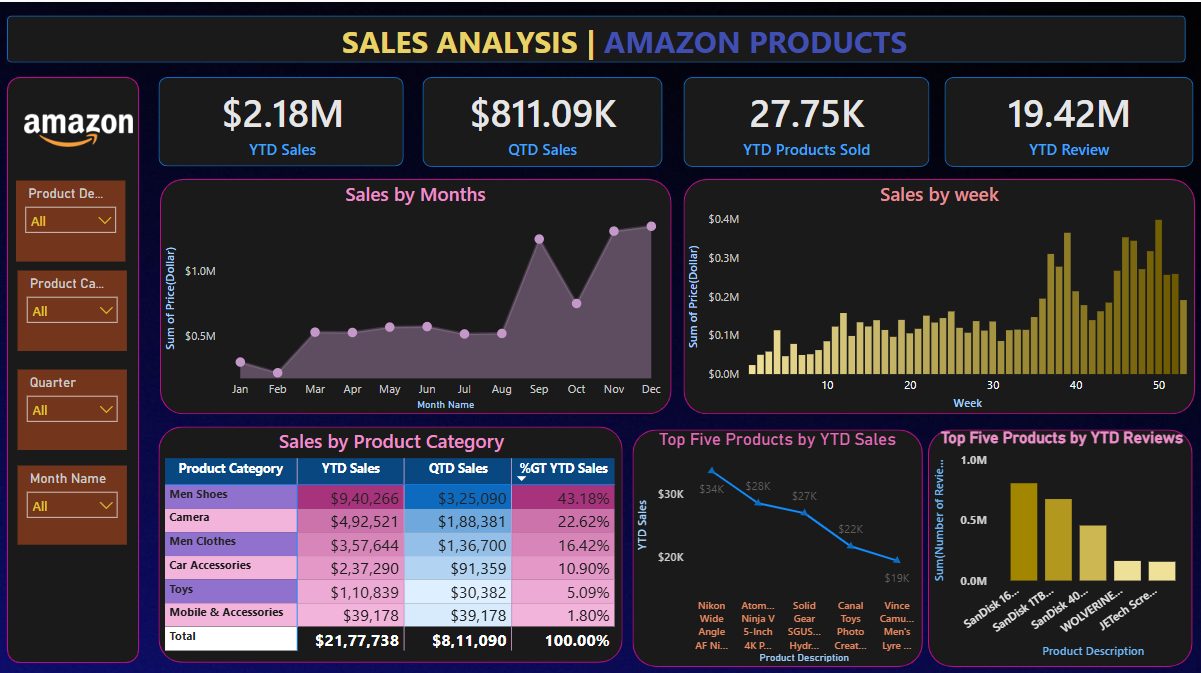

Layout of this report page (visuals, bound fields, positions):
{"tool":"powerbi","page":{"name":"Page 1","canvas":[1280,720],"ordinal":0},"visuals":[{"type":"shape","box":[170.3,79.5,260,94.9],"z":0,"group":"g1"},{"type":"shape","box":[9.6,14.3,1249.9,50],"z":0},{"type":"card","fields":{"Values":["Amazon_Data.YTD Sales"]},"box":[171.9,79.5,259.3,95.4],"z":1000,"group":"g1"},{"type":"textbox","box":[359.5,14.3,688.7,57.2],"z":1000},{"type":"shape","box":[450.2,79.5,254.5,95.4],"z":2000,"group":"g1"},{"type":"shape","box":[9.6,79.5,140,621.4],"z":2000},{"type":"shape","box":[726.4,79.5,260.8,95.4],"z":3000,"group":"g1"},{"type":"group","id":"g1","title":"Group 1","box":[170.3,79.5,1097.4,95.4],"z":3000},{"type":"shape","box":[1003.7,79.5,264,95.4],"z":4000,"group":"g1"},{"type":"shape","box":[171.9,187.6,542.4,249.5],"z":4000},{"type":"card","fields":{"Values":["Amazon_Data.QTD Sales"]},"box":[450.2,79.5,254.5,95.4],"z":5000,"group":"g1"},{"type":"areaChart","title":"Sales by Months","fields":{"Category":["Date table.Month Name"],"Y":["Sum(Amazon_Data.Price(Dollar))"]},"box":[172.4,189.1,541.5,247.5],"z":5000},{"type":"card","fields":{"Values":["Amazon_Data.YTD Products Sold"]},"box":[727,79.5,260.8,95.4],"z":6000,"group":"g1"},{"type":"shape","box":[726.9,187.6,542.4,249.5],"z":6000},{"type":"card","fields":{"Values":["Amazon_Data.YTD Review"]},"box":[1005.3,79.5,260.8,95.4],"z":7000,"group":"g1"},{"type":"columnChart","title":"Sales by week","fields":{"Category":["Date table.Week"],"Y":["Sum(Amazon_Data.Price(Dollar))"]},"box":[726.9,189.1,542.4,247.9],"z":7000},{"type":"shape","box":[170.8,450.4,492.3,250.6],"z":8000},{"type":"pivotTable","title":"Sales by Product Category","fields":{"Rows":["Amazon_Data.Product Category"],"Values":["Amazon_Data.YTD Sales1","Amazon_Data.QTD Sales","Amazon_Data.YTD Sales"]},"box":[172.4,452,490.7,250.6],"z":9000},{"type":"shape","box":[672.8,452.9,307.8,251.7],"z":10000},{"type":"shape","box":[985.7,452.9,280.5,251.7],"z":11000},{"type":"lineChart","title":"Top Five Products by YTD Sales","fields":{"Category":["Amazon_Data.Product Description"],"Y":["Amazon_Data.YTD Sales"]},"box":[672.8,452.9,307.8,251.7],"z":12000},{"type":"clusteredColumnChart","title":"Top Five Products by YTD Reviews","fields":{"Y":["Sum(Amazon_Data.Number of  reviews)"],"Category":["Amazon_Data.Product Description"]},"box":[987.9,452.4,281.1,248.4],"z":13000},{"type":"slicer","fields":{"Values":["Amazon_Data.Product Category"]},"box":[20.4,284.9,116.2,85.1],"z":14000},{"type":"slicer","fields":{"Values":["Date table.Quarter"]},"box":[20.4,390.2,116.2,85.1],"z":15000},{"type":"image","box":[9.5,79.7,140.5,109.4],"z":16000},{"type":"slicer","fields":{"Values":["Date table.Month Name"]},"box":[20.8,491.1,116.1,84.2],"z":17000},{"type":"slicer","fields":{"Values":["Amazon_Data.Product Description"]},"box":[19.1,189.3,116.1,85.9],"z":17001}]}

Visuals, with their boxes in screenshot pixels (x1, y1, x2, y2), scaled from the page's 1280x720 canvas onto the 1201x673 screenshot:
shape: pyautogui.locateOnScreen(160, 74, 404, 163)
shape: pyautogui.locateOnScreen(9, 13, 1182, 60)
card - Amazon_Data.YTD Sales: pyautogui.locateOnScreen(161, 74, 405, 163)
textbox: pyautogui.locateOnScreen(337, 13, 984, 67)
shape: pyautogui.locateOnScreen(422, 74, 661, 163)
shape: pyautogui.locateOnScreen(9, 74, 140, 655)
shape: pyautogui.locateOnScreen(682, 74, 926, 163)
"Group 1" group: pyautogui.locateOnScreen(160, 74, 1189, 163)
shape: pyautogui.locateOnScreen(942, 74, 1189, 163)
shape: pyautogui.locateOnScreen(161, 175, 670, 409)
card - Amazon_Data.QTD Sales: pyautogui.locateOnScreen(422, 74, 661, 163)
"Sales by Months" areaChart: pyautogui.locateOnScreen(162, 177, 670, 408)
card - Amazon_Data.YTD Products Sold: pyautogui.locateOnScreen(682, 74, 927, 163)
shape: pyautogui.locateOnScreen(682, 175, 1191, 409)
card - Amazon_Data.YTD Review: pyautogui.locateOnScreen(943, 74, 1188, 163)
"Sales by week" columnChart: pyautogui.locateOnScreen(682, 177, 1191, 408)
shape: pyautogui.locateOnScreen(160, 421, 622, 655)
"Sales by Product Category" pivotTable: pyautogui.locateOnScreen(162, 422, 622, 657)
shape: pyautogui.locateOnScreen(631, 423, 920, 659)
shape: pyautogui.locateOnScreen(925, 423, 1188, 659)
"Top Five Products by YTD Sales" lineChart: pyautogui.locateOnScreen(631, 423, 920, 659)
"Top Five Products by YTD Reviews" clusteredColumnChart: pyautogui.locateOnScreen(927, 423, 1191, 655)
slicer - Amazon_Data.Product Category: pyautogui.locateOnScreen(19, 266, 128, 346)
slicer - Date table.Quarter: pyautogui.locateOnScreen(19, 365, 128, 444)
image: pyautogui.locateOnScreen(9, 74, 141, 177)
slicer - Date table.Month Name: pyautogui.locateOnScreen(20, 459, 128, 538)
slicer - Amazon_Data.Product Description: pyautogui.locateOnScreen(18, 177, 127, 257)
